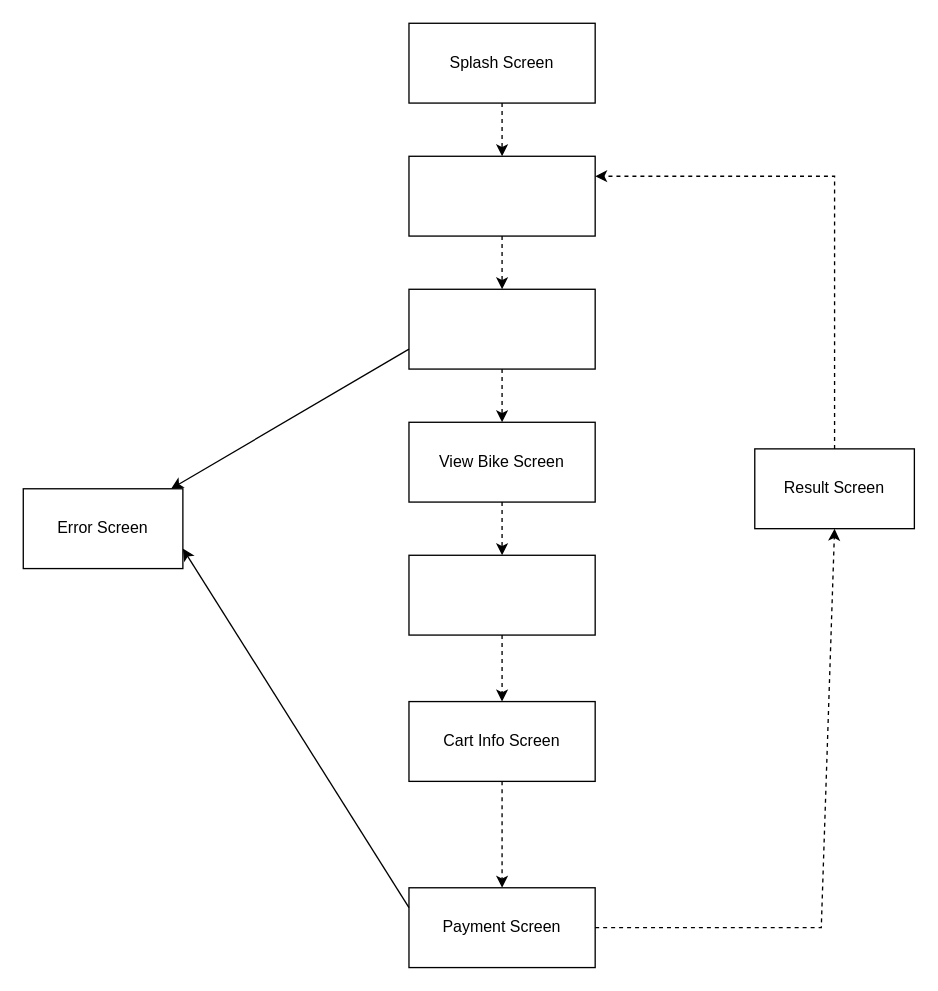
This 938x991 diagram has some shape labels left out. Each missing label, with the centre of its shape:
Choose payment method screen: pixel 501 594
Home Screen: pixel 501 195
Scan bar code screen: pixel 501 328
